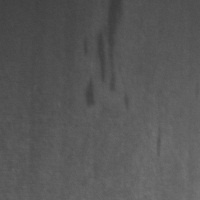inclusion: (82, 0, 132, 110), (79, 74, 100, 115), (151, 123, 166, 160)
